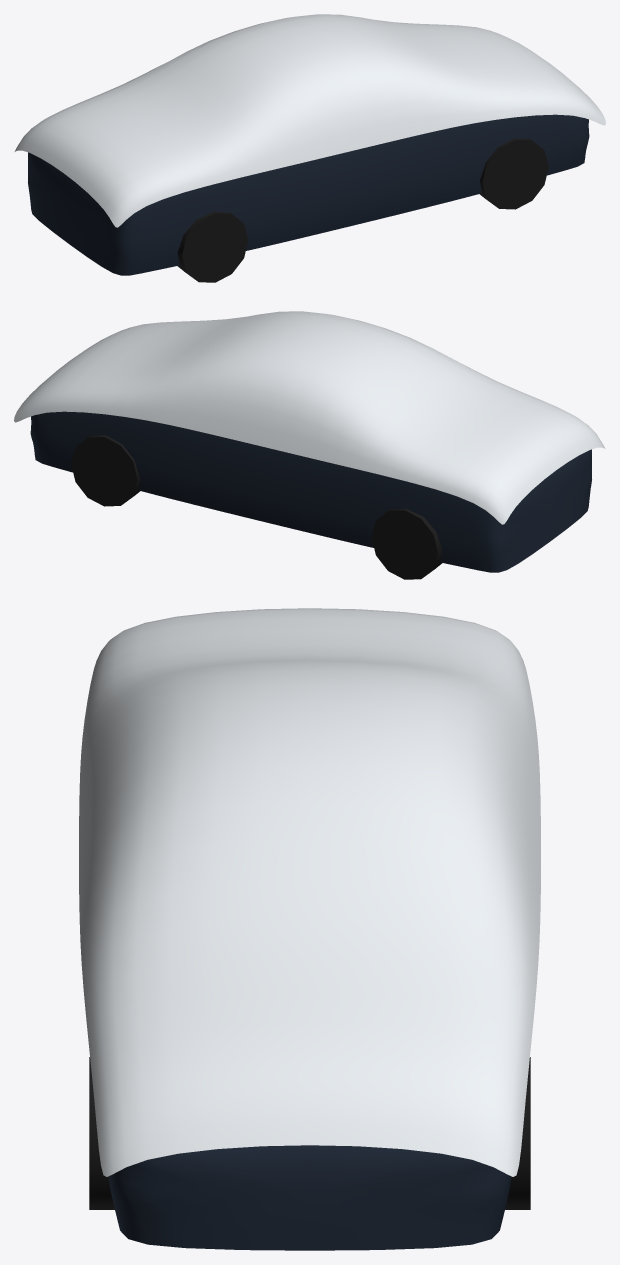
File: SM_car0_D.glb
3 renders of one model, top to bottom at view 1: azimuth 30°, elevation 25°; view 2: azimuth 150°, elevation 25°; view 3: azimuth 270°, elevation 25°, orthographic. The views are drawn at different scales.
Visible parts, largest first — view 1: SM_car0_D_snow, SM_car0_D_body, SM_car0_D_wheels; view 2: SM_car0_D_snow, SM_car0_D_body, SM_car0_D_wheels; view 3: SM_car0_D_snow, SM_car0_D_body, SM_car0_D_wheels.
Boxes of the visible parts, left/top/right/bottom form: SM_car0_D_snow: left=14, top=14, right=605, bottom=227; SM_car0_D_body: left=28, top=114, right=589, bottom=275; SM_car0_D_wheels: left=177, top=138, right=548, bottom=282; SM_car0_D_snow: left=14, top=311, right=605, bottom=524; SM_car0_D_body: left=30, top=411, right=591, bottom=572; SM_car0_D_wheels: left=71, top=435, right=442, bottom=579; SM_car0_D_snow: left=79, top=608, right=540, bottom=1176; SM_car0_D_body: left=108, top=1145, right=511, bottom=1250; SM_car0_D_wheels: left=89, top=1057, right=530, bottom=1209.
Bounding box in the file's own units: 4.6 × 1.51 × 1.86.
